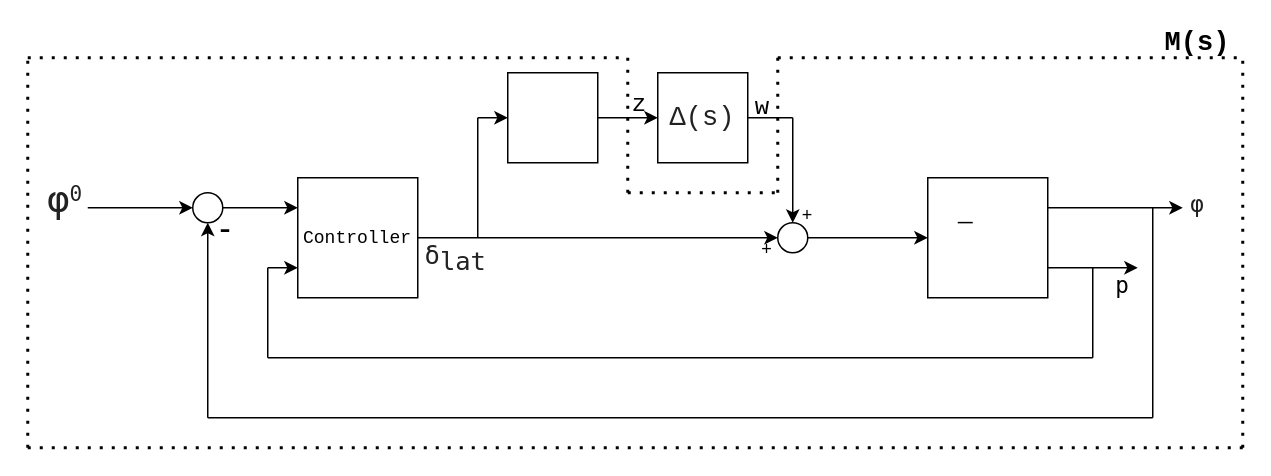
The diagram is 1271 pixels wide and 476 high, and some of its shapes have lost their labels. Each missing label, with the centre of its shape:
G(s): pixel 987 237
W(s): pixel 552 117
